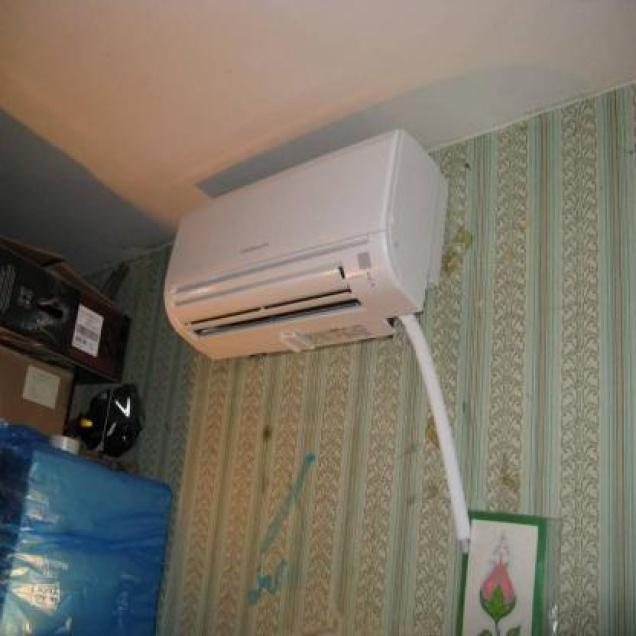AC: (161, 127, 447, 360)
